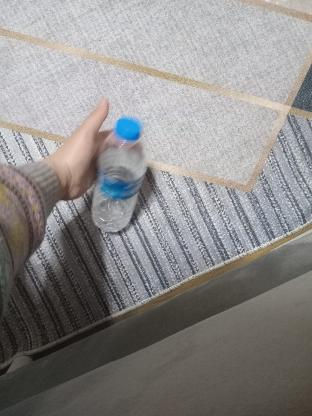Plastic Bottle: (88, 115, 148, 233)
